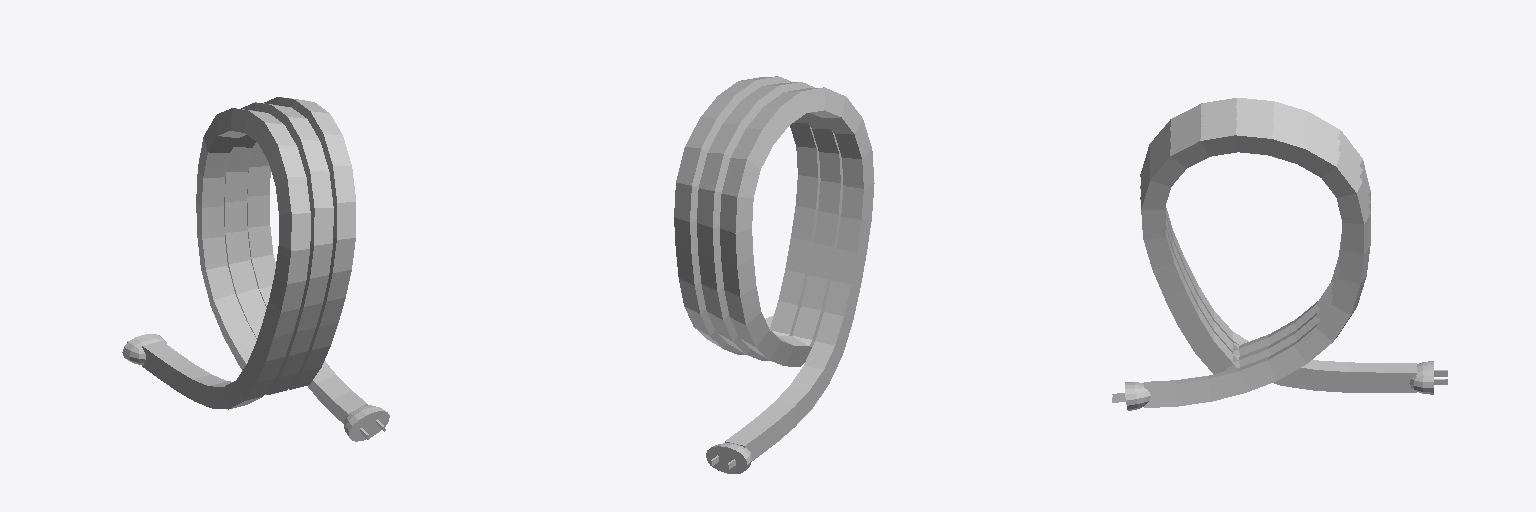
Rendered from rope75.obj.
The picture shows the model from 3 angles: view 1: azimuth 30°, elevation 25°; view 2: azimuth 150°, elevation 25°; view 3: azimuth 270°, elevation 25°; orthographic projection.
Parts seen in each view (by area): view 1: 立方体.012_立方体.016; view 2: 立方体.012_立方体.016; view 3: 立方体.012_立方体.016.
Boxes of the visible parts, box(x1,y1,x2,y2) form: 立方体.012_立方体.016: box(122, 97, 389, 441); 立方体.012_立方体.016: box(674, 76, 874, 473); 立方体.012_立方体.016: box(1112, 98, 1447, 410).
Bounding box in the file's own units: 0.496 × 1.28 × 1.28.